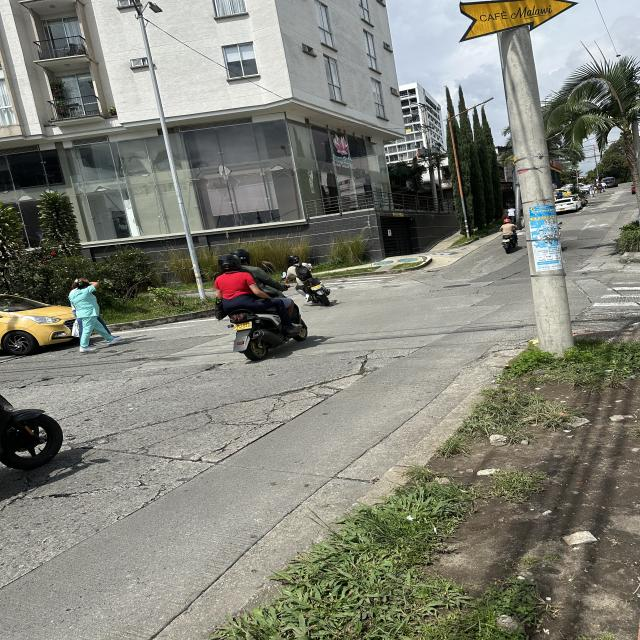number plate: (234, 322, 252, 330)
